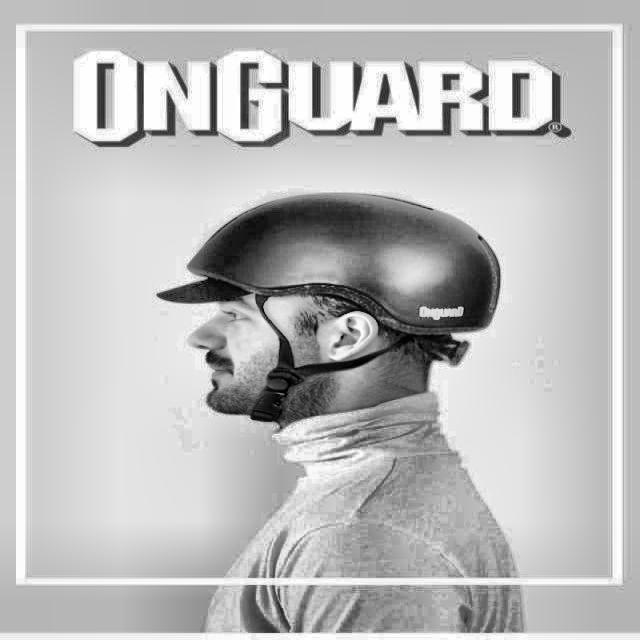Helmet: (137, 178, 530, 432)
